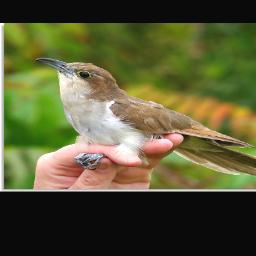Cuckoo: (35, 56, 256, 180)
